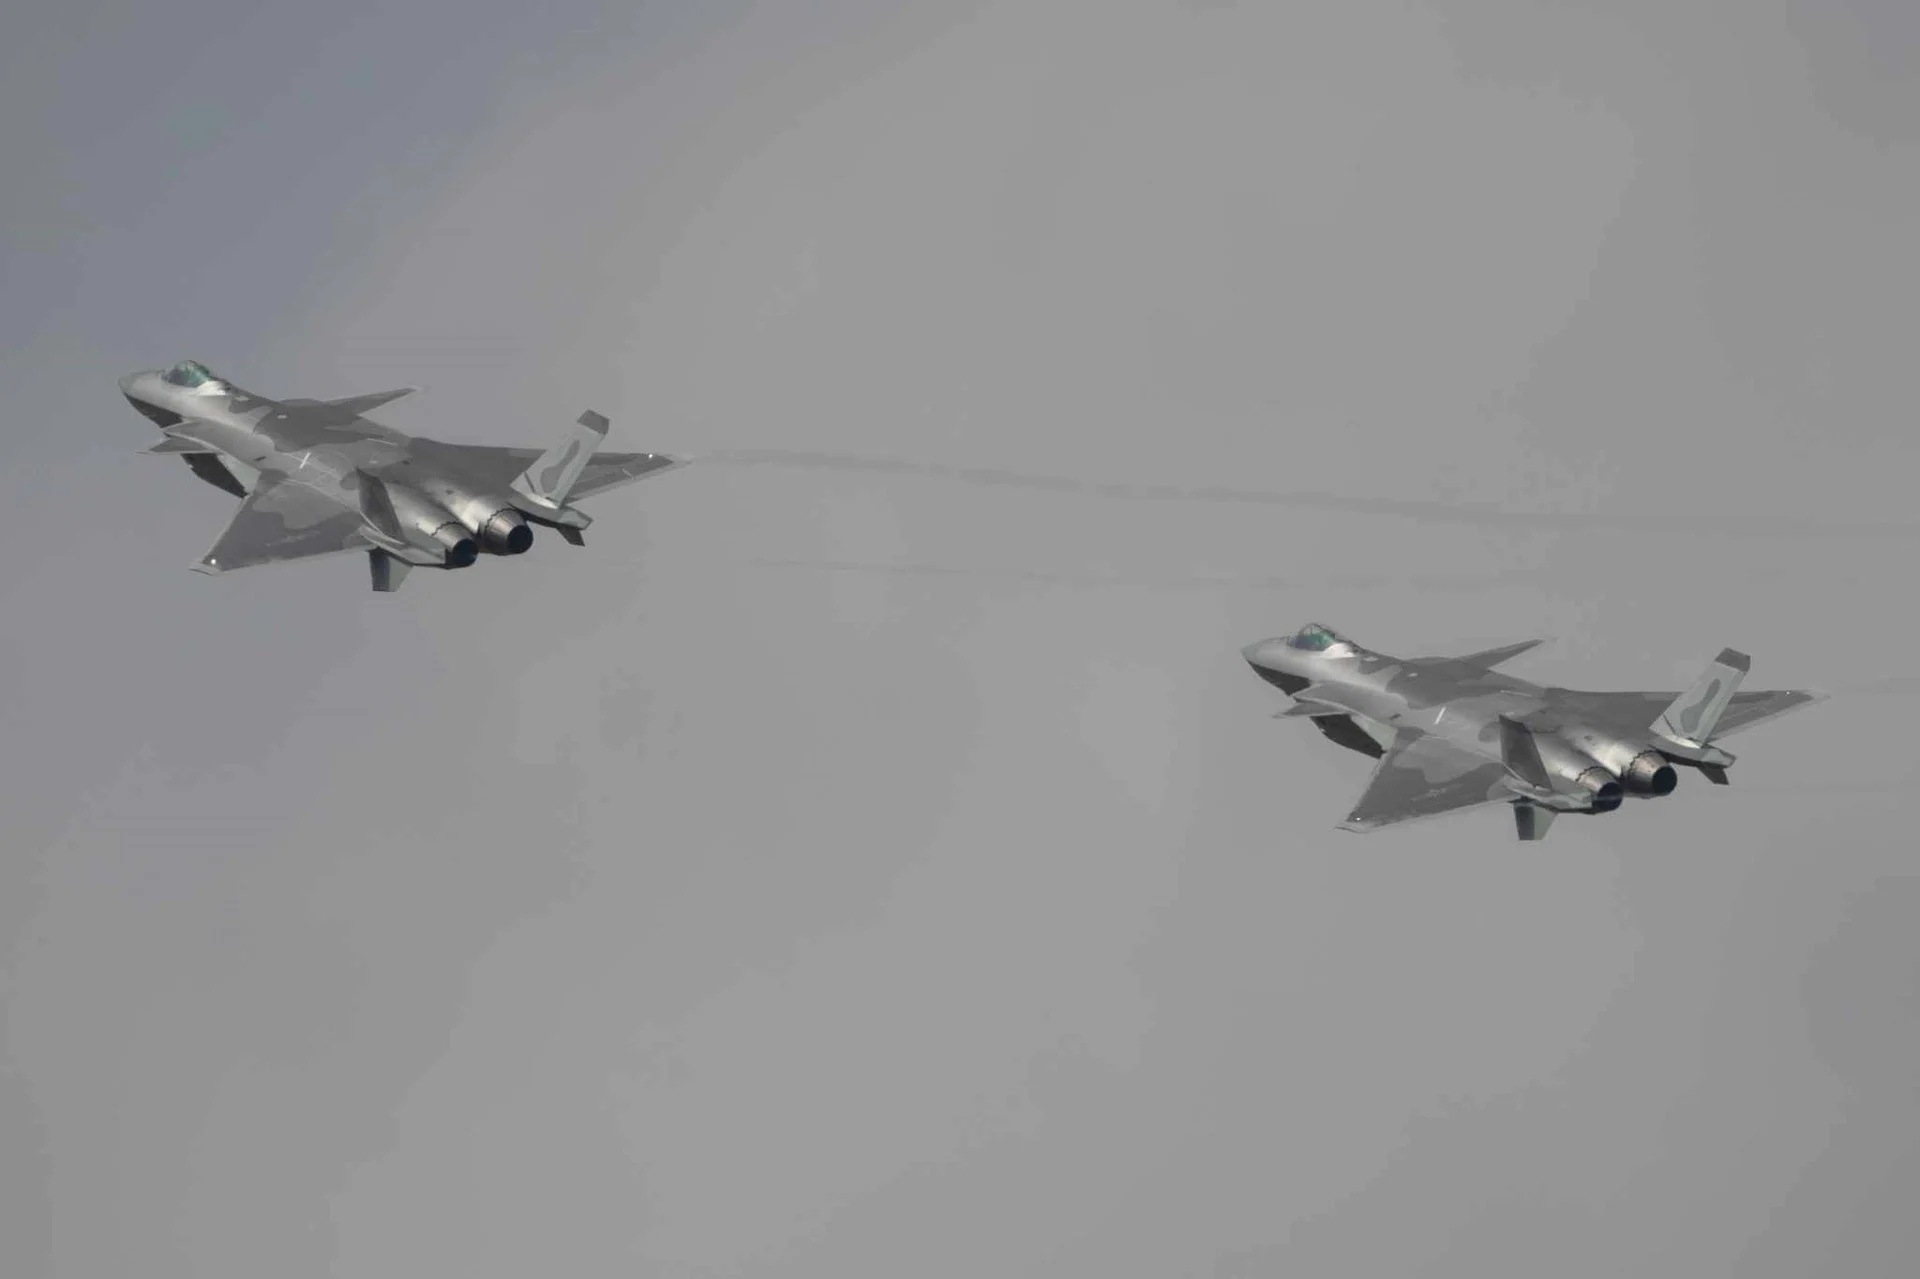J20: (116, 358, 692, 592), (1239, 621, 1831, 842)
